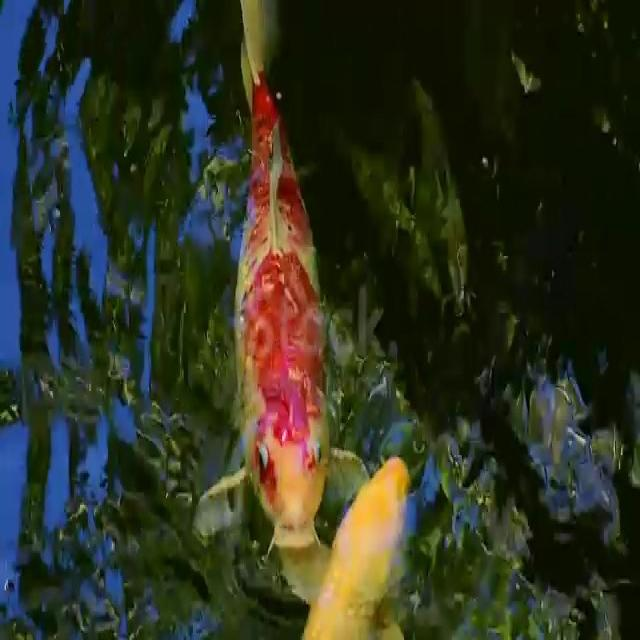fish: (200, 0, 341, 551), (300, 453, 420, 640)
